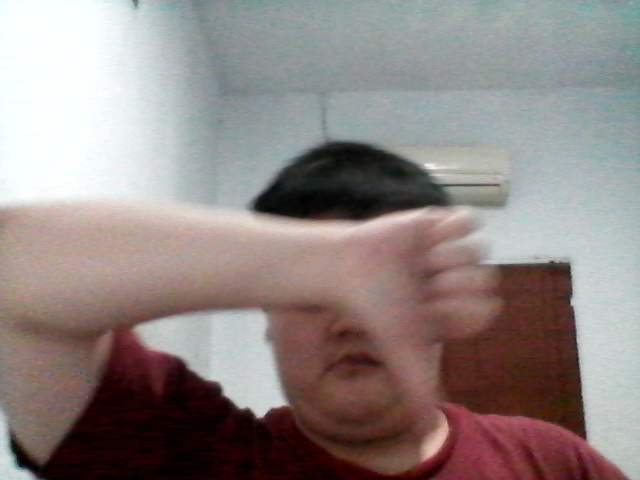thumbsdown: (344, 215, 507, 421)
